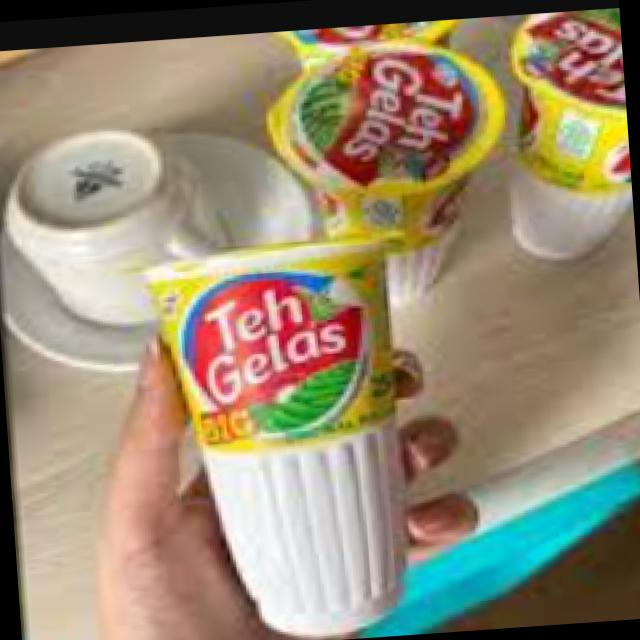GelasPlastik: (138, 233, 415, 640), (492, 5, 634, 265)
